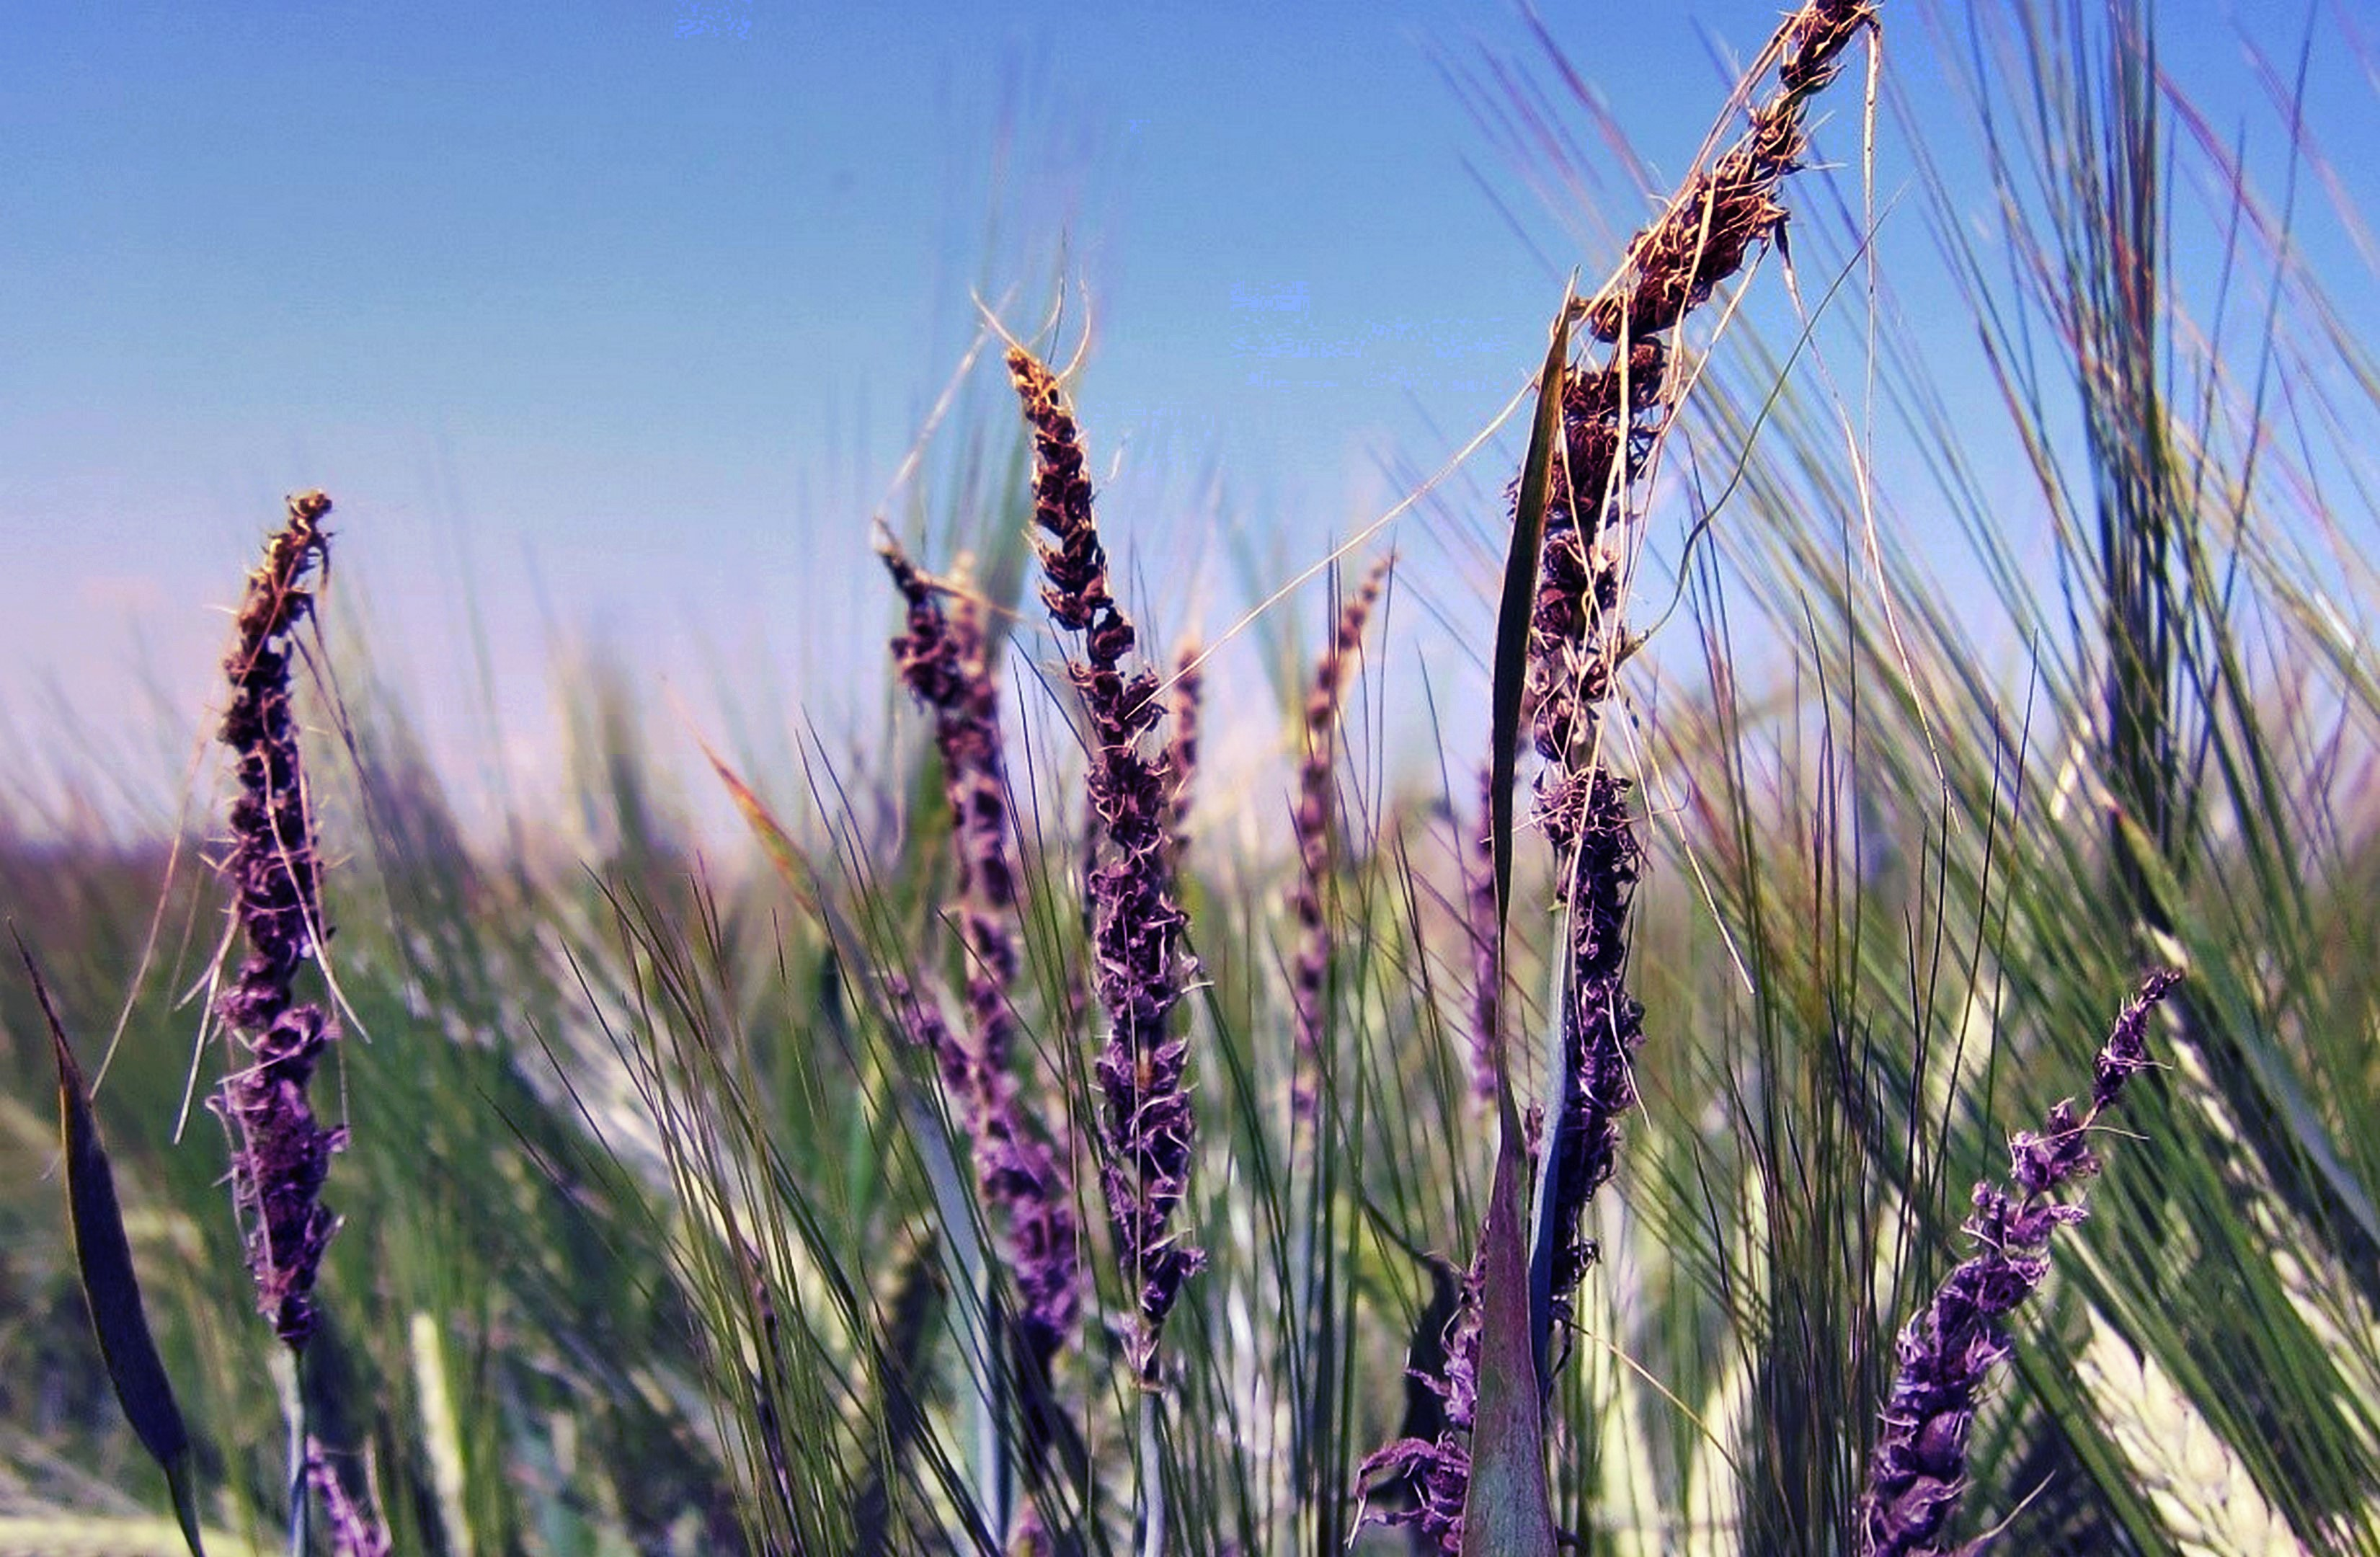Wheat Loose Smut: (910, 127, 1808, 1385), (172, 492, 413, 1324)
